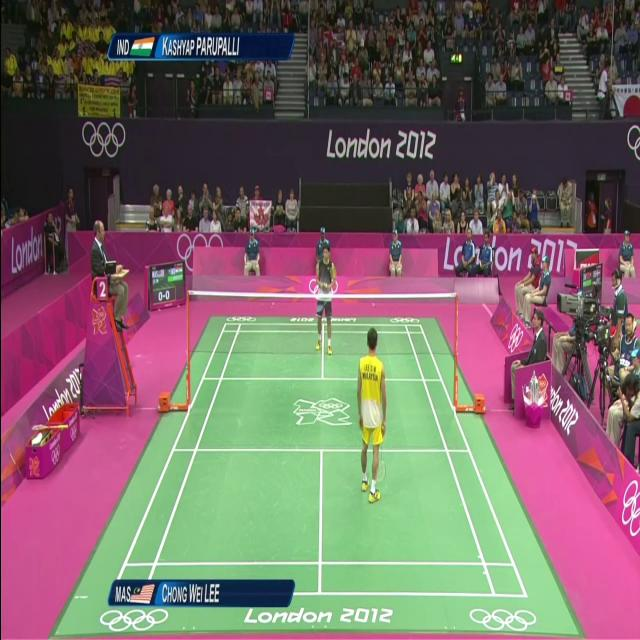Net: (187, 289, 458, 369)
Player1: (341, 324, 396, 511)
Player2: (309, 233, 344, 360)
